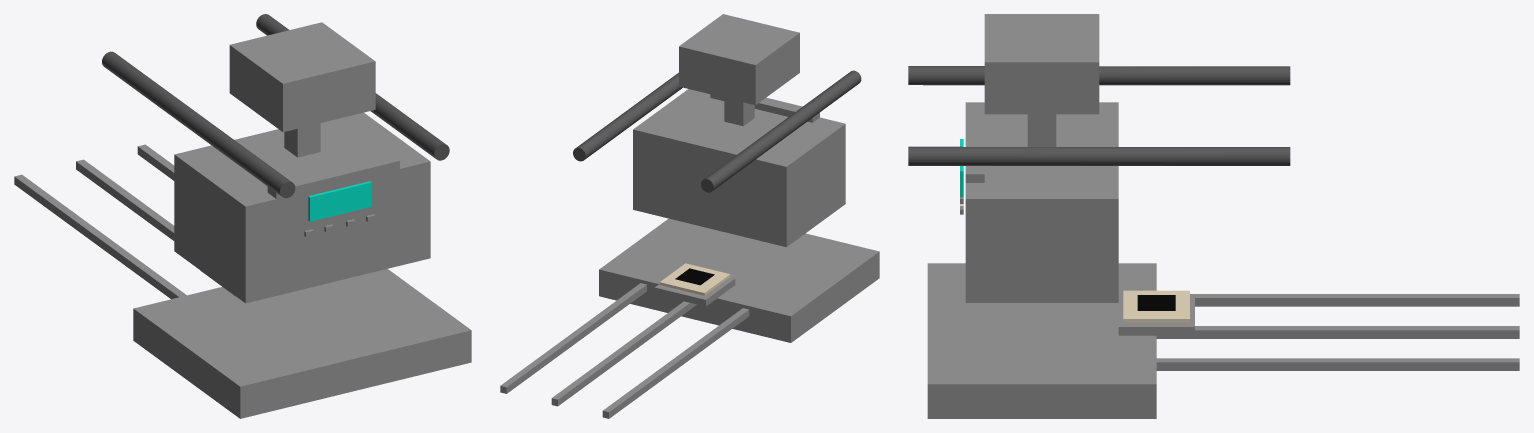
Rendered from qryazici.fbx.
3 renders of one model, left to right at view 1: azimuth 30°, elevation 25°; view 2: azimuth 150°, elevation 25°; view 3: azimuth 270°, elevation 25°, orthographic. The views are drawn at different scales.
Visible parts, largest first — view 1: Base_Platform, QR_Printer_Body, Print_Head, Control_Panel, Cable_1, Conveyor_Rail_3, Cable_2, LCD_Screen, Conveyor_Rail_1, Print_Head_Support, Conveyor_Rail_2; view 2: QR_Printer_Body, Base_Platform, Print_Head, Cable_1, Cable_2, Conveyor_Rail_3, Conveyor_Rail_2, Conveyor_Rail_1, Sample_Tile, Tile_Platform, Print_Head_Support, Control_Panel (+1 smaller); view 3: Base_Platform, QR_Printer_Body, Print_Head, Cable_2, Cable_1, Conveyor_Rail_2, Conveyor_Rail_1, Conveyor_Rail_3, Sample_Tile, Tile_Platform, Control_Panel, Print_Head_Support (+1 smaller).
Part boxes in pixels (bbox=[...]): Base_Platform: bbox=[133, 269, 471, 418]; QR_Printer_Body: bbox=[174, 112, 430, 303]; Print_Head: bbox=[229, 22, 375, 132]; Control_Panel: bbox=[267, 154, 399, 238]; Cable_1: bbox=[102, 51, 295, 198]; Conveyor_Rail_3: bbox=[14, 174, 186, 299]; Cable_2: bbox=[256, 14, 449, 160]; LCD_Screen: bbox=[308, 181, 371, 221]; Conveyor_Rail_1: bbox=[76, 159, 174, 240]; Print_Head_Support: bbox=[284, 123, 320, 157]; Conveyor_Rail_2: bbox=[137, 144, 174, 180]; QR_Printer_Body: bbox=[633, 89, 845, 247]; Base_Platform: bbox=[599, 218, 879, 342]; Print_Head: bbox=[679, 14, 799, 105]; Cable_1: bbox=[701, 70, 861, 192]; Cable_2: bbox=[573, 72, 682, 161]; Conveyor_Rail_3: bbox=[602, 308, 749, 418]; Conveyor_Rail_2: bbox=[500, 283, 646, 393]; Conveyor_Rail_1: bbox=[551, 301, 696, 406]; Sample_Tile: bbox=[659, 263, 730, 295]; Tile_Platform: bbox=[654, 277, 735, 306]; Print_Head_Support: bbox=[724, 97, 754, 126]; Control_Panel: bbox=[710, 94, 819, 122]; Base_Platform: bbox=[927, 263, 1156, 418]; QR_Printer_Body: bbox=[965, 102, 1118, 302]; Print_Head: bbox=[984, 14, 1099, 114]; Cable_2: bbox=[908, 146, 1290, 165]; Cable_1: bbox=[908, 66, 1290, 85]; Conveyor_Rail_2: bbox=[1156, 358, 1519, 370]; Conveyor_Rail_1: bbox=[1156, 326, 1519, 338]; Conveyor_Rail_3: bbox=[1190, 294, 1519, 306]; Sample_Tile: bbox=[1123, 290, 1189, 322]; Tile_Platform: bbox=[1118, 294, 1194, 335]; Control_Panel: bbox=[965, 109, 984, 182]; Print_Head_Support: bbox=[1027, 114, 1056, 146].
Size of the model in its own units: 1.5 by 1.85 by 3.2.
